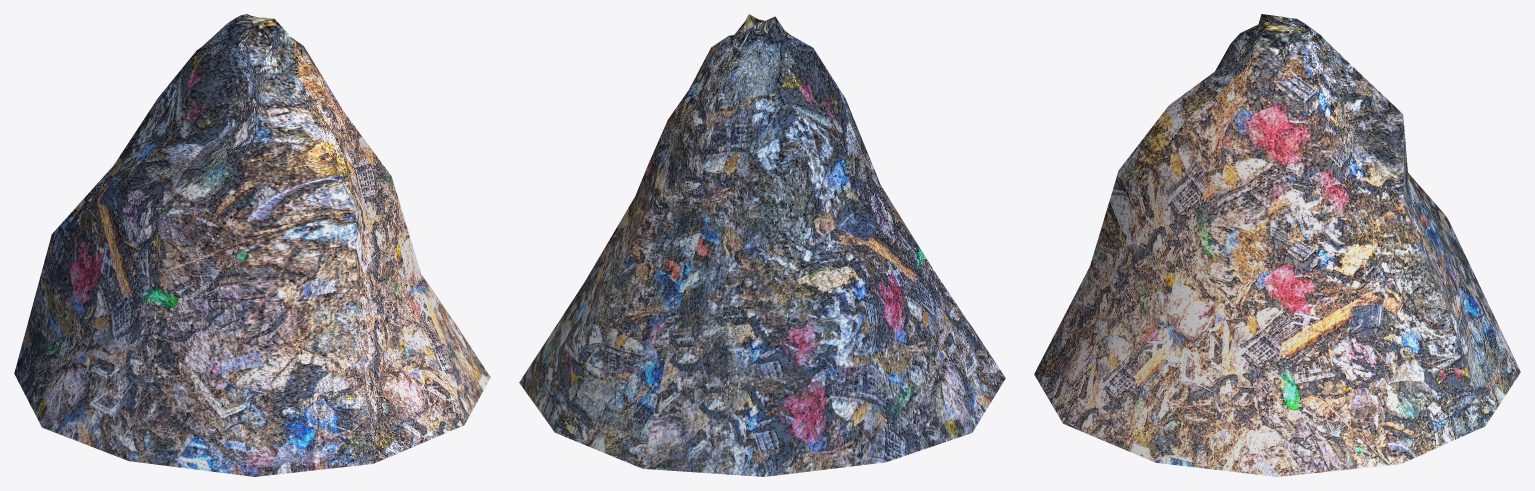
The model's file is Garbage_Variation-2.fbx.
3 renders of one model, left to right at view 1: azimuth 30°, elevation 25°; view 2: azimuth 150°, elevation 25°; view 3: azimuth 270°, elevation 25°, orthographic.
Parts seen in each view (by area): view 1: Circle.001; view 2: Circle.001; view 3: Circle.001.
Part boxes in pixels (box(x1,y1,x2,y2)): Circle.001: box(14, 14, 490, 476); Circle.001: box(519, 14, 1005, 476); Circle.001: box(1034, 14, 1520, 476).
Size of the model in its own units: 11.97 by 9.87 by 12.11.
1 material, 1 textured.
